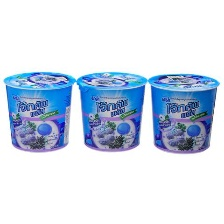paper_cup: (0, 67, 79, 155), (144, 68, 222, 157), (73, 67, 149, 155)
